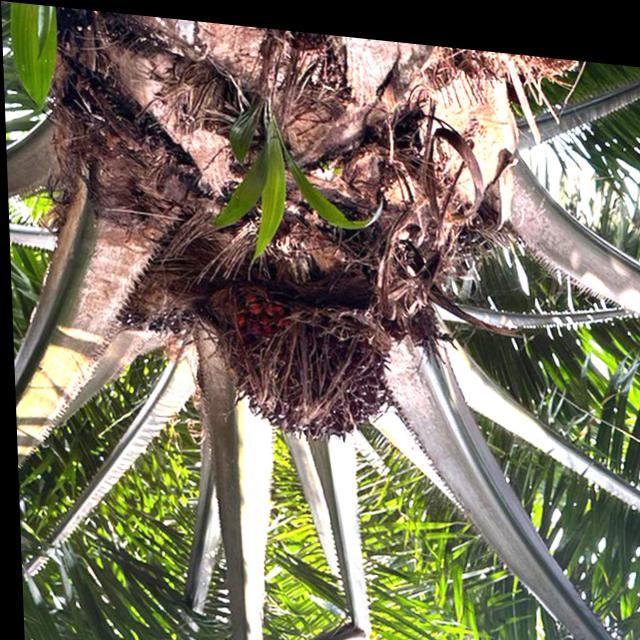almost: (208, 280, 397, 447)
